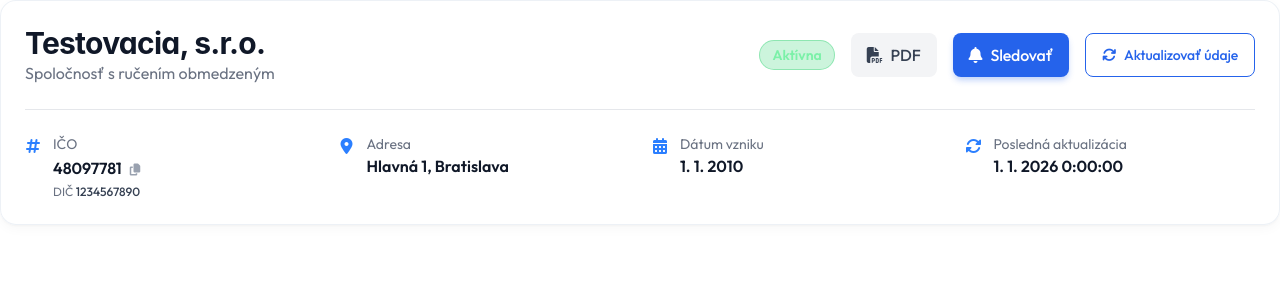
it: CompanyHeader — obnovenie údajov › says the pass has started, and that the page has to be reloaded to see it
The width and height of the screenshot is (1280, 302).
Click the button "Aktualizovať údaje".
click(1170, 55)  # box [1085,33,1255,77]
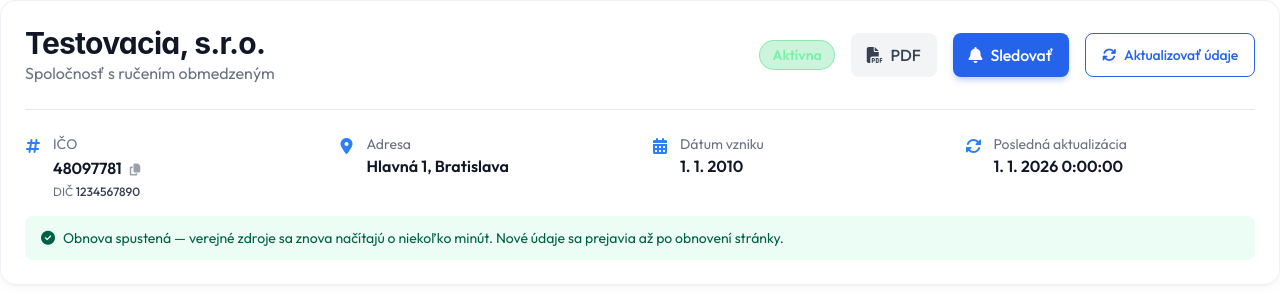
Check: the message shows "Obnova spustená", box [63,229,784,247]
Check: the message shows "obnovení stránky", box [63,229,784,247]
